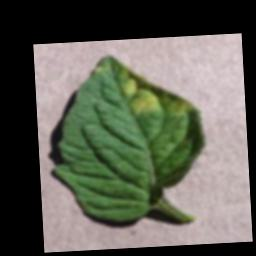Leaf_Mold: (109, 51, 200, 121)
